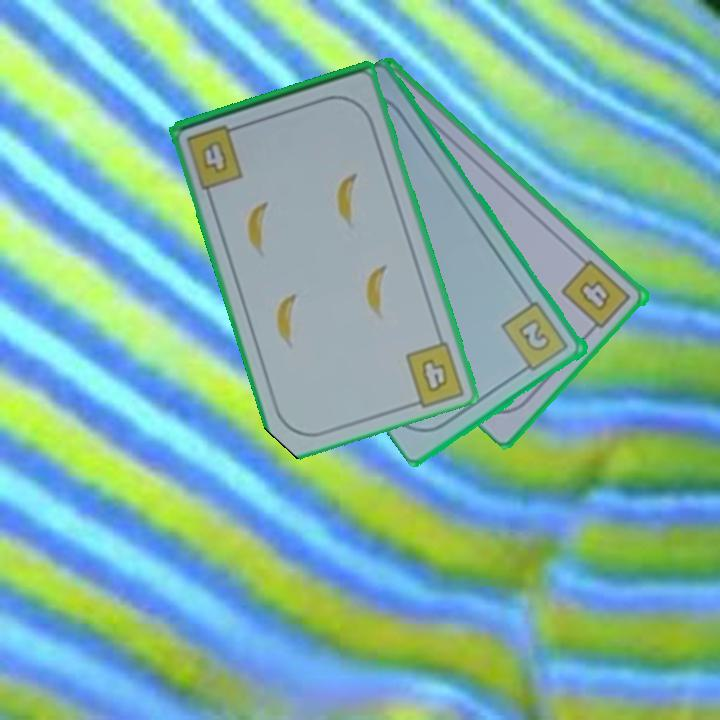2b: (498, 298, 573, 377)
4b: (558, 256, 635, 337), (183, 120, 247, 192), (418, 355, 452, 396)
